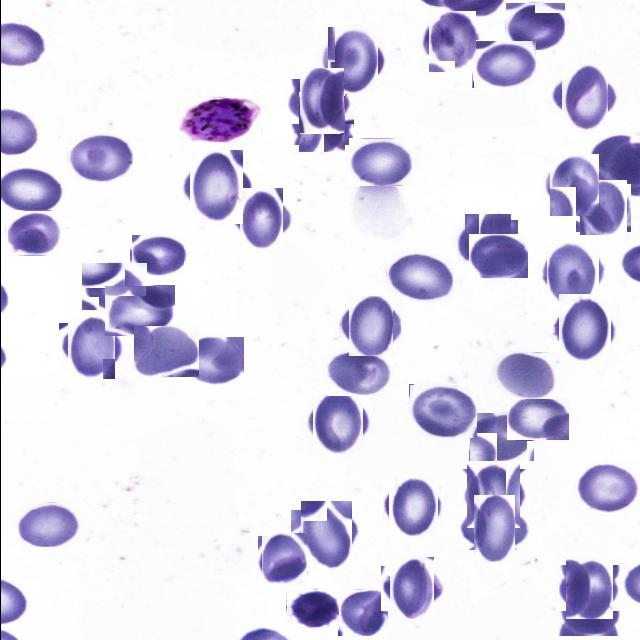red blood cell: (184, 154, 248, 218), (552, 298, 614, 361), (408, 384, 476, 438), (295, 506, 356, 566), (103, 285, 174, 336), (463, 466, 523, 525), (322, 31, 381, 90), (555, 69, 613, 128), (308, 393, 366, 451), (133, 326, 198, 377), (544, 245, 602, 302), (386, 252, 452, 302), (66, 132, 132, 182), (557, 586, 620, 638), (574, 462, 636, 514), (468, 412, 533, 461), (80, 262, 146, 310), (348, 138, 414, 186), (63, 319, 119, 375), (545, 157, 601, 213), (292, 74, 348, 130), (179, 337, 243, 385), (490, 351, 554, 399), (385, 478, 440, 533), (472, 41, 536, 88), (325, 350, 390, 396), (424, 15, 478, 70), (294, 95, 348, 149), (466, 502, 520, 556), (562, 562, 616, 616), (504, 2, 564, 50), (384, 562, 438, 615), (461, 217, 514, 270), (16, 502, 78, 547), (506, 398, 568, 442), (234, 193, 286, 245), (576, 182, 628, 234), (344, 300, 396, 352), (468, 234, 527, 278), (6, 210, 62, 256), (259, 534, 308, 584), (337, 590, 387, 636), (130, 234, 184, 276), (285, 590, 338, 630)
schizont: (178, 98, 260, 142)
